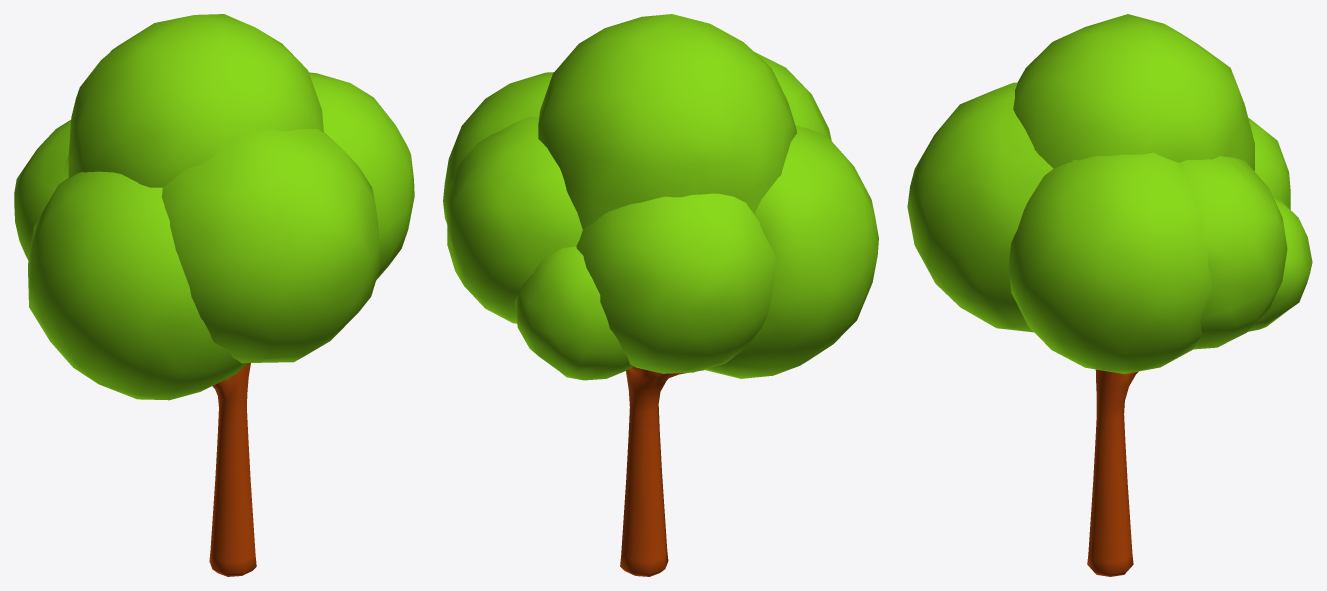
The model's file is Tree001.fbx.
3 renders of one model, left to right at view 1: azimuth 30°, elevation 25°; view 2: azimuth 150°, elevation 25°; view 3: azimuth 270°, elevation 25°, orthographic. The views are drawn at different scales.
Visible parts, largest first — view 1: Plane; view 2: Plane; view 3: Plane.
Boxes of the visible parts, box(x1,y1,x2,y2) form: Plane: box(14, 14, 414, 576); Plane: box(443, 14, 878, 576); Plane: box(907, 14, 1312, 576).
Size of the model in its own units: 296 by 412 by 286.
1 material, 1 textured.
